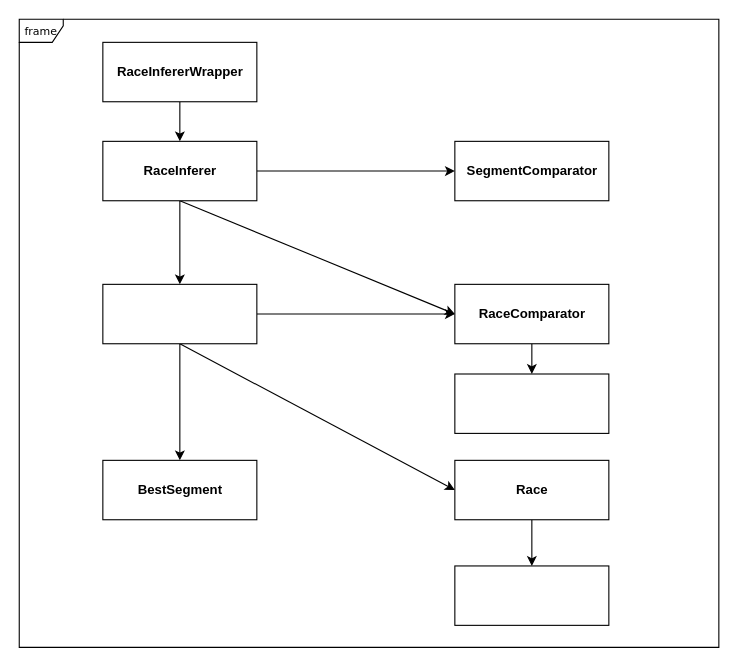
The diagram is 738 pixels wide and 667 high, and some of its shapes have lost their labels. Here are the shapes that lost their labels. From the top down, the centre of each, then its label:
At pixel 179 313: "RaceManager".
At pixel 531 403: "Segment".
At pixel 531 595: "Point".
